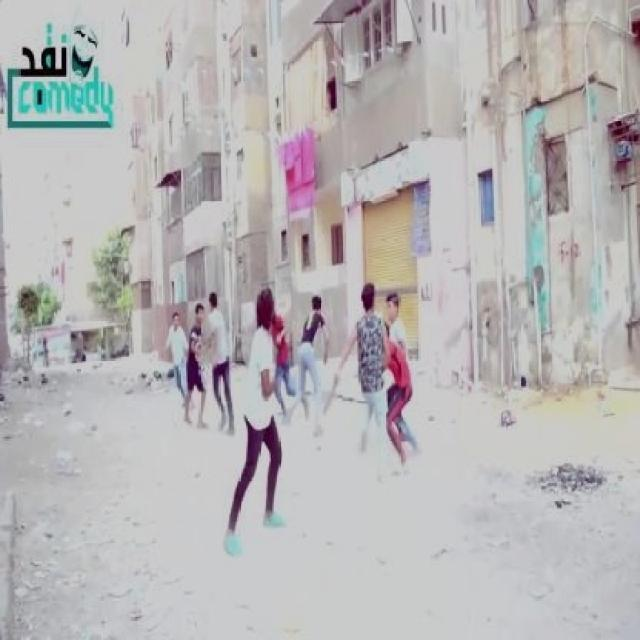fight: (326, 282, 426, 474), (184, 286, 237, 434)
non-fight: (223, 286, 290, 553)
